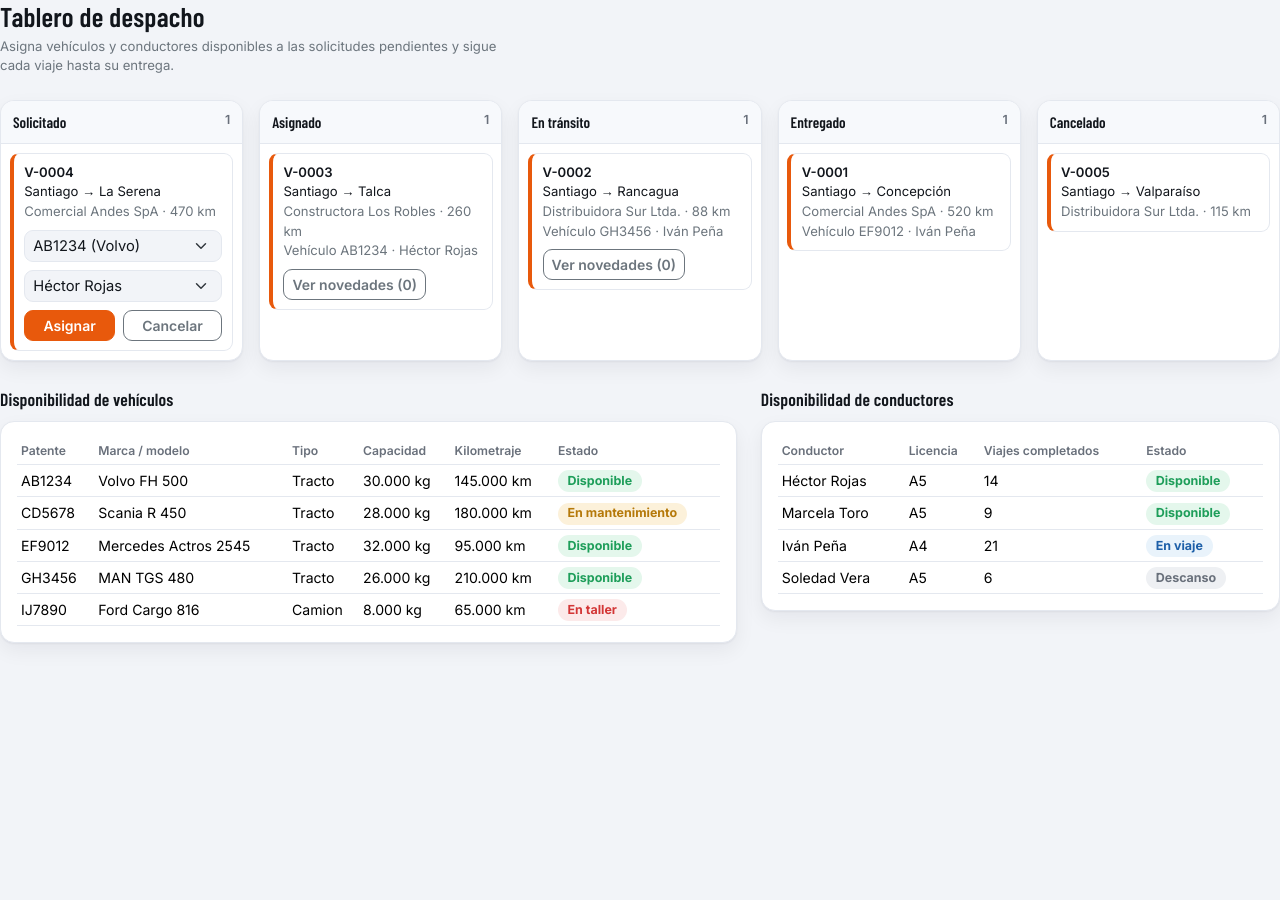
Test: SupervisorView › abre las novedades de un viaje y avisa si no tiene ninguna
Click the button "Ver novedades (0)" below "· Héctor Rojas" at (355, 285), box [283,269,426,300]
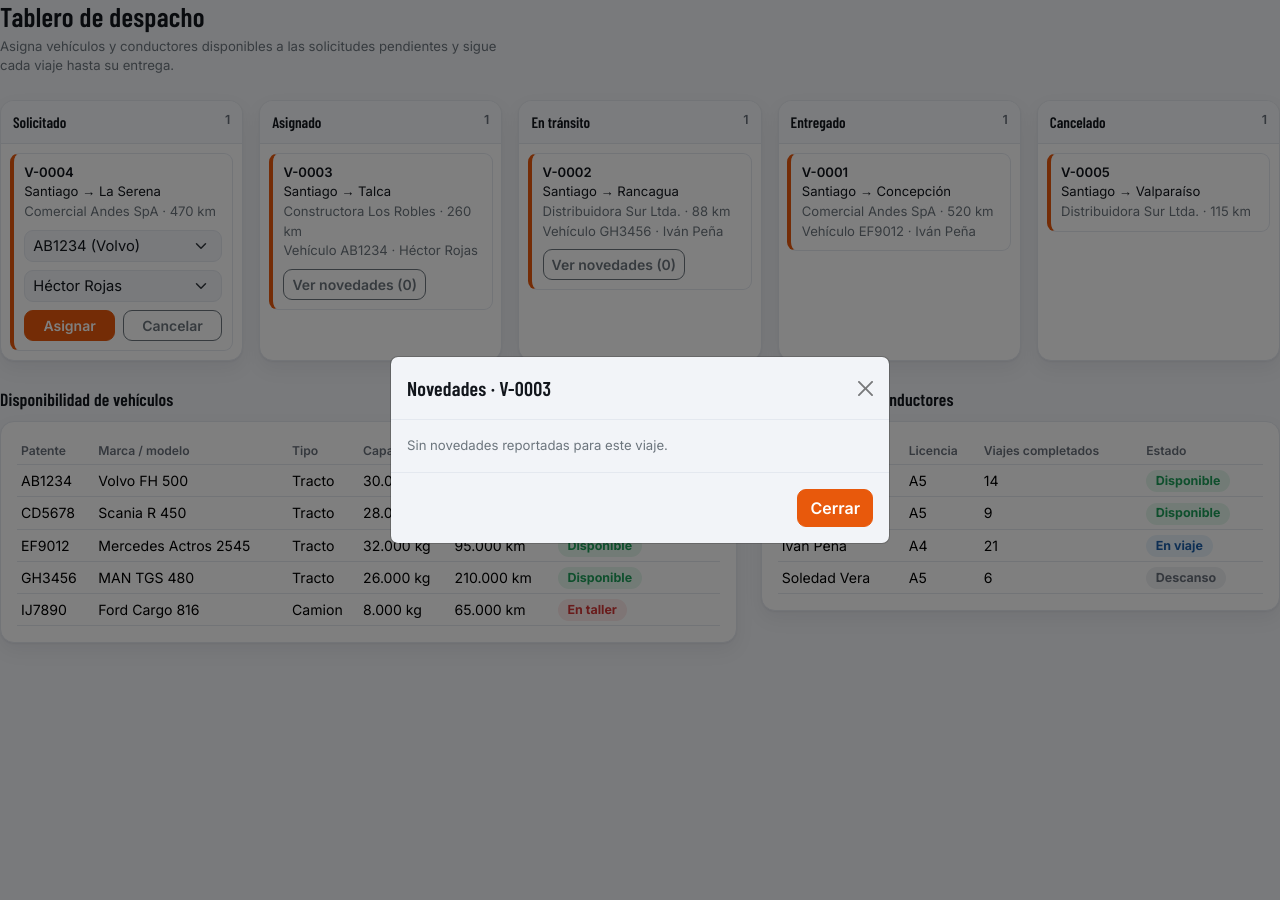
Expected: the dialog "Novedades · V-0003" is shown, [390,356,890,544]
Expected: the text "Sin novedades reportadas para este viaje." is shown, [407,437,668,453]
